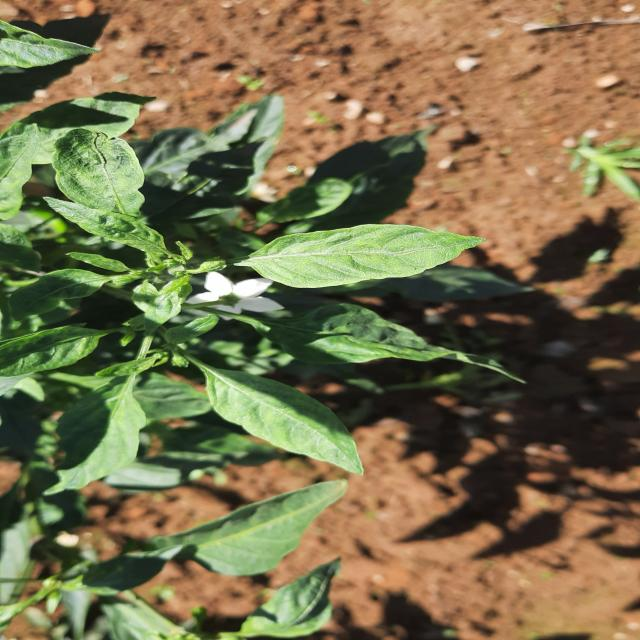thrips: (193, 216, 510, 299), (20, 118, 151, 216)
